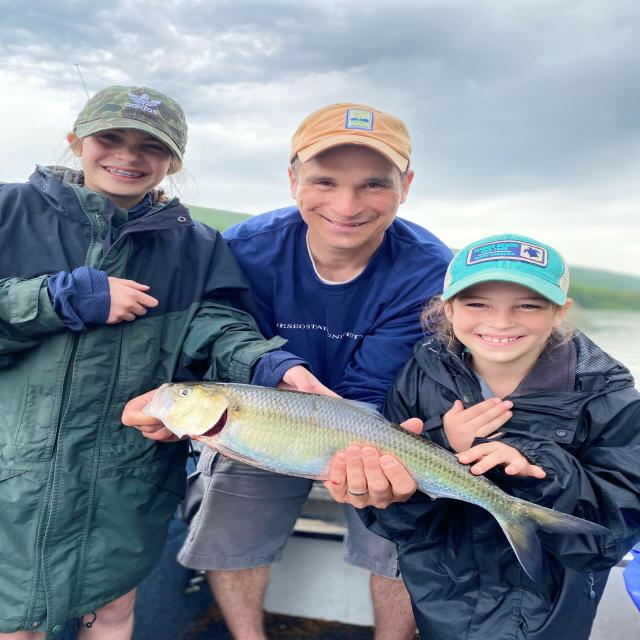Shad - American: (144, 382, 609, 581)
